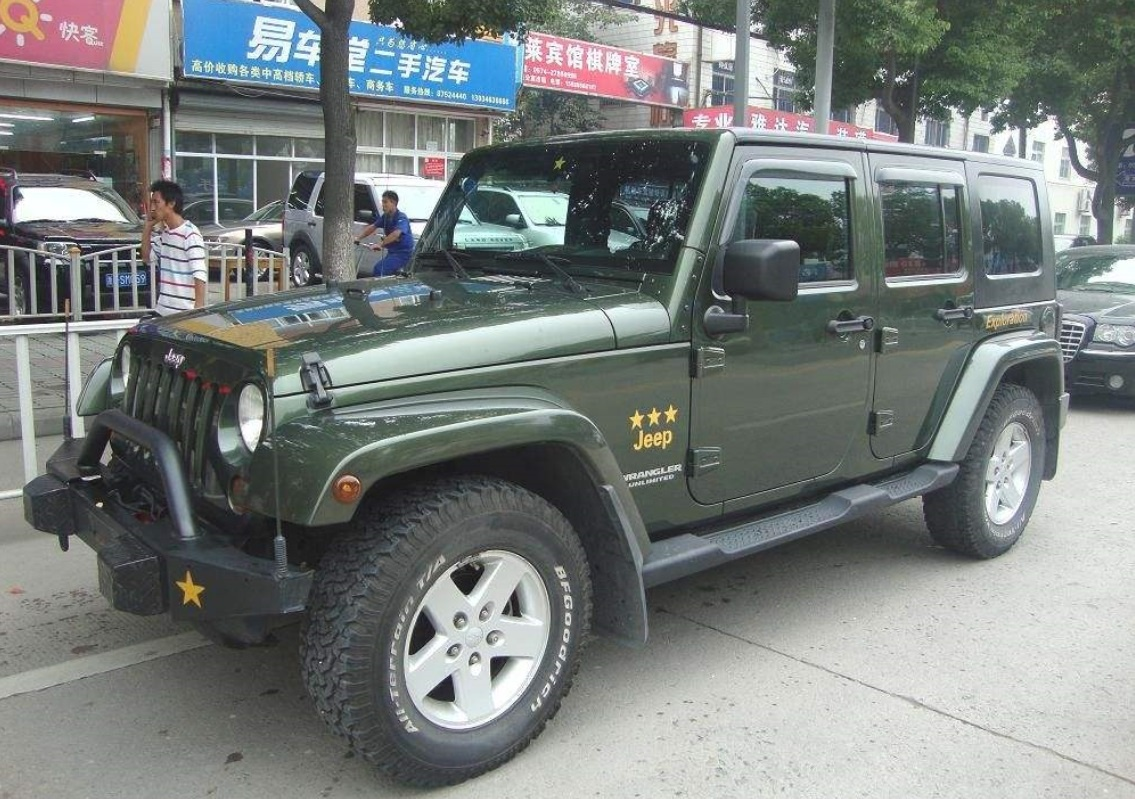jeep: (77, 128, 1085, 760)
